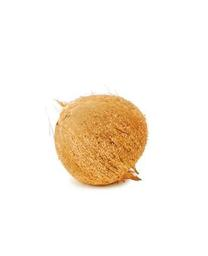coconut: (53, 92, 149, 188)
